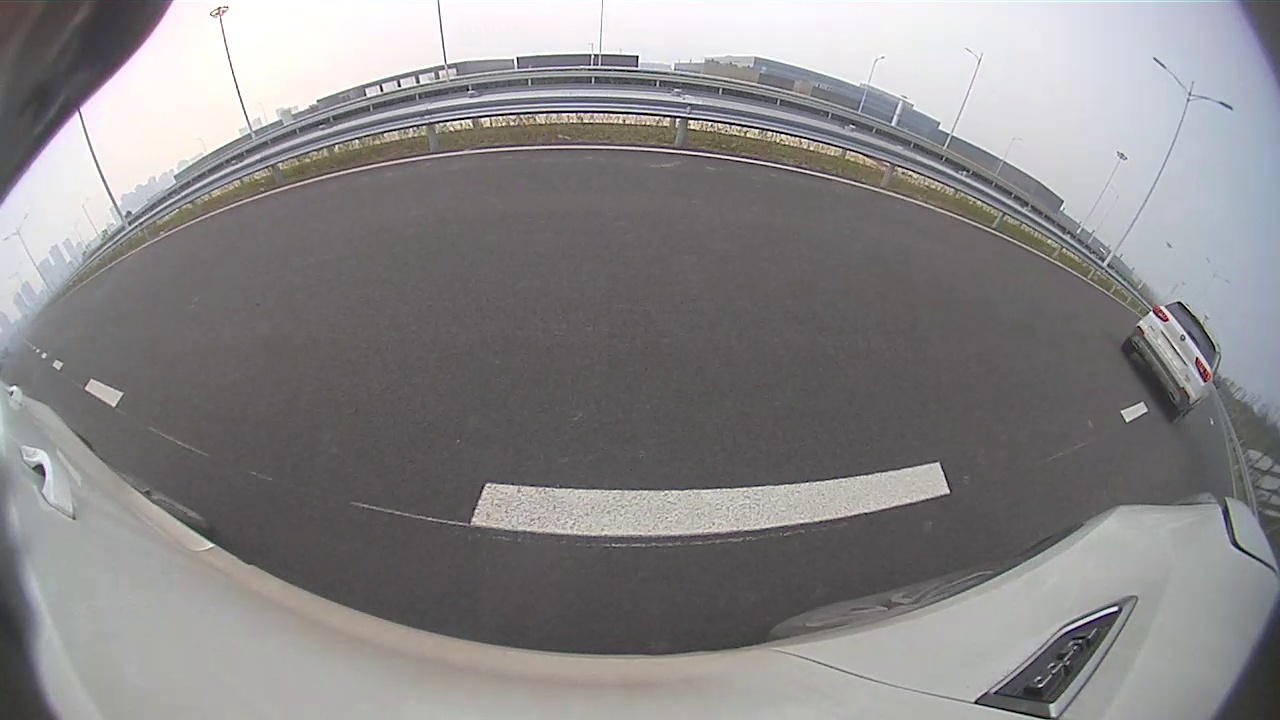car: (1125, 302, 1221, 420)
